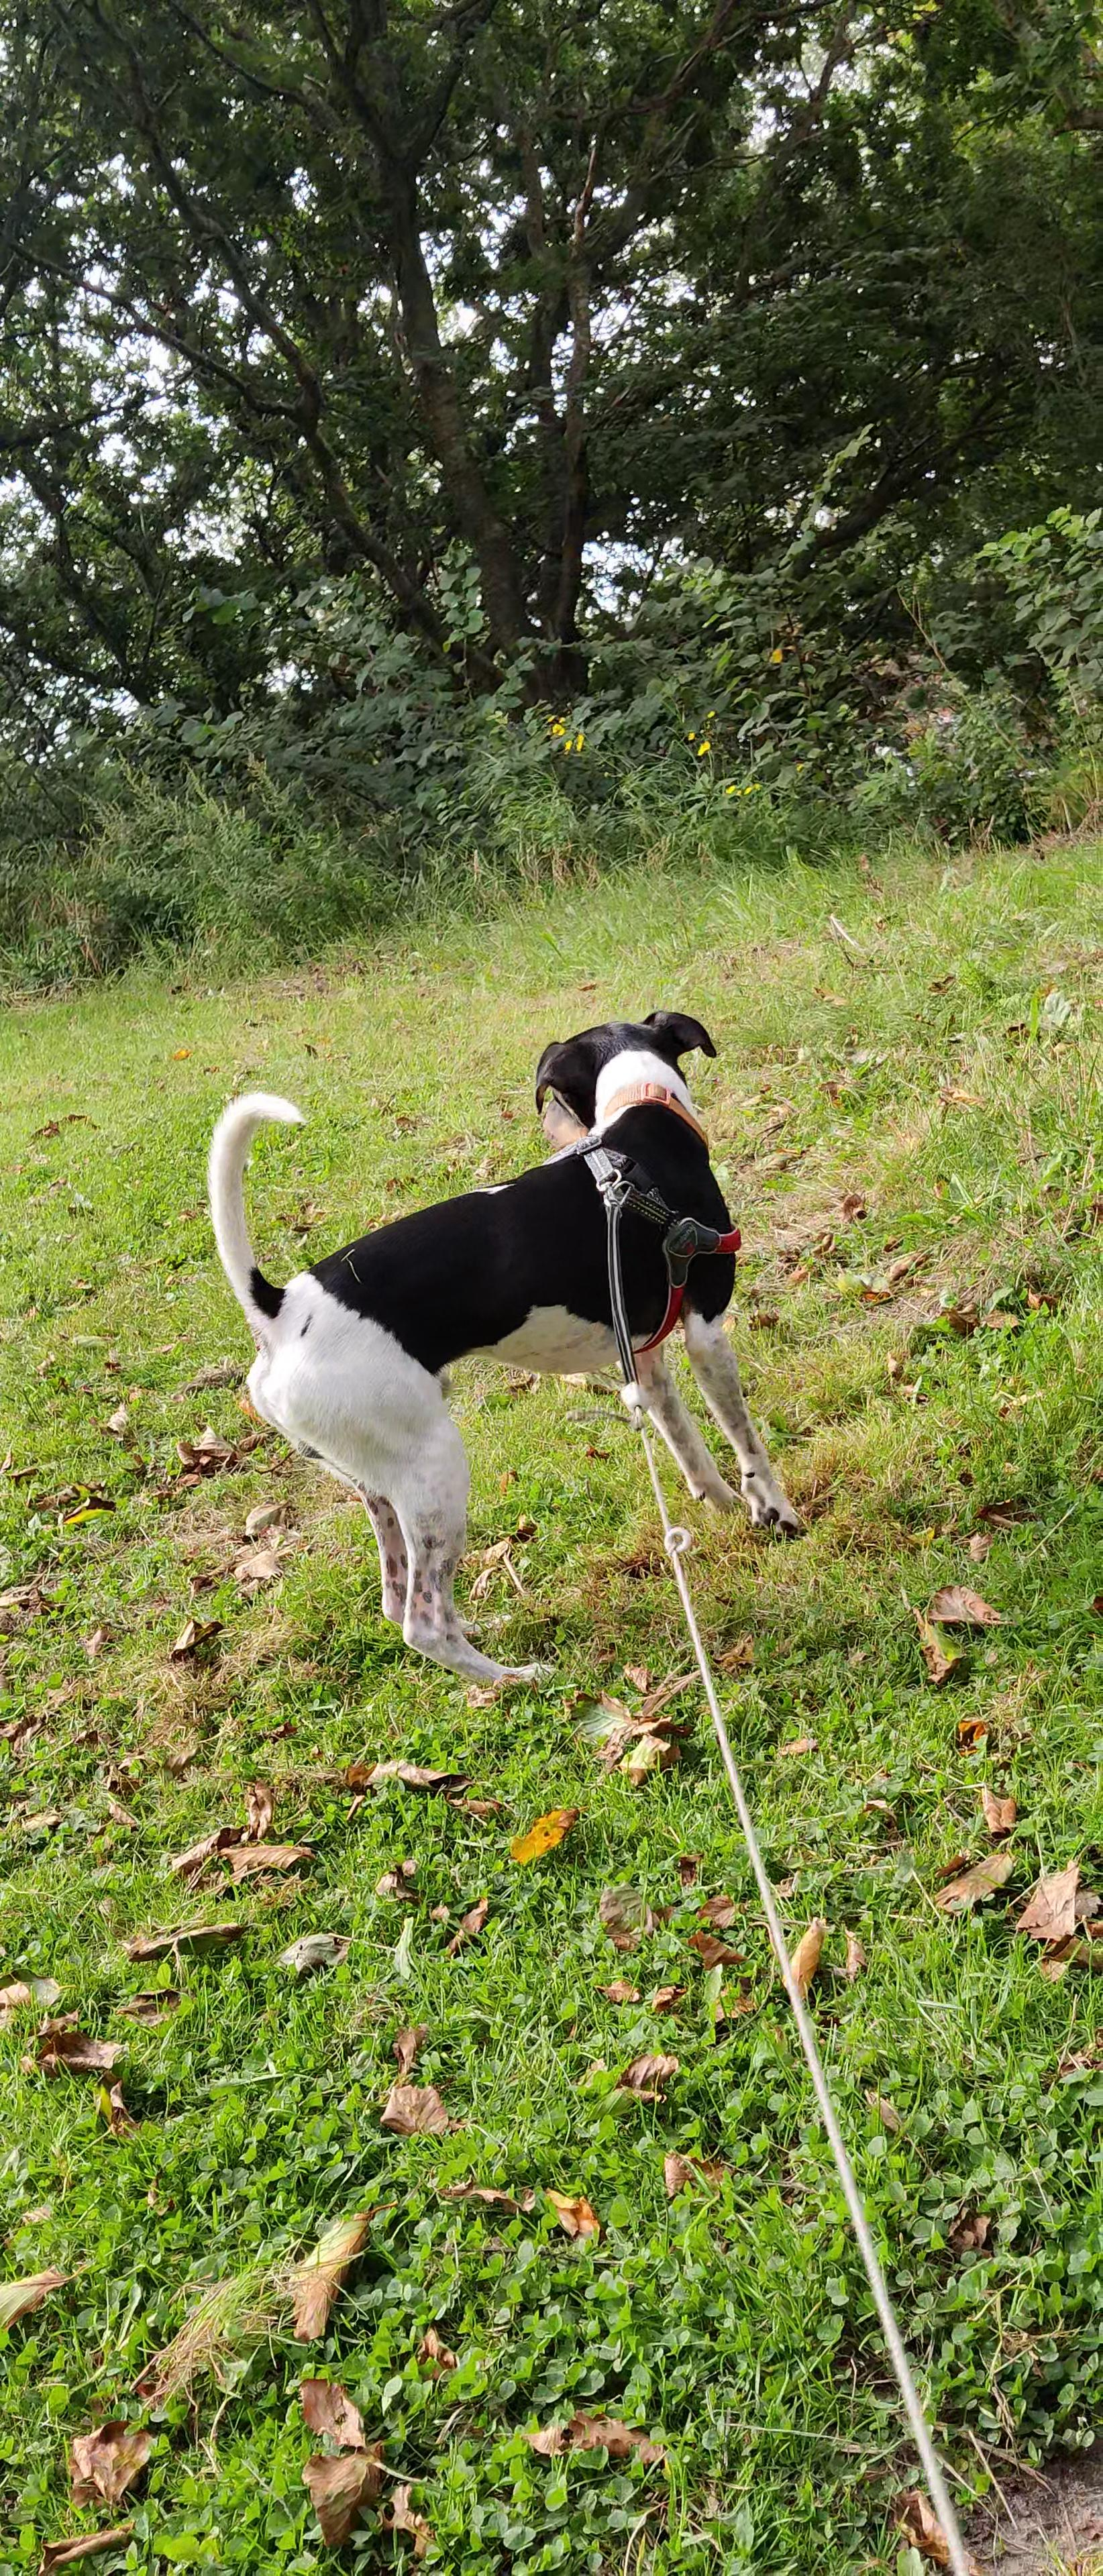Dog: (194, 1002, 843, 1709)
